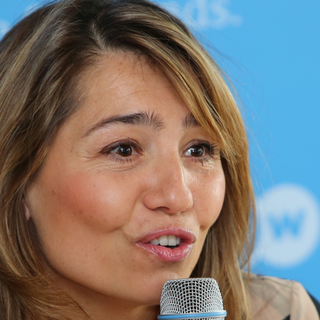eye: (96, 136, 144, 164), (177, 138, 217, 165)
